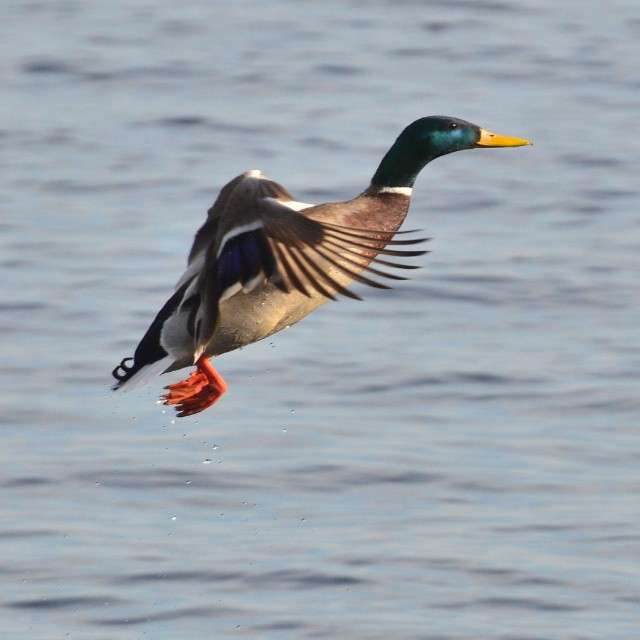Duck: (109, 110, 537, 420)
